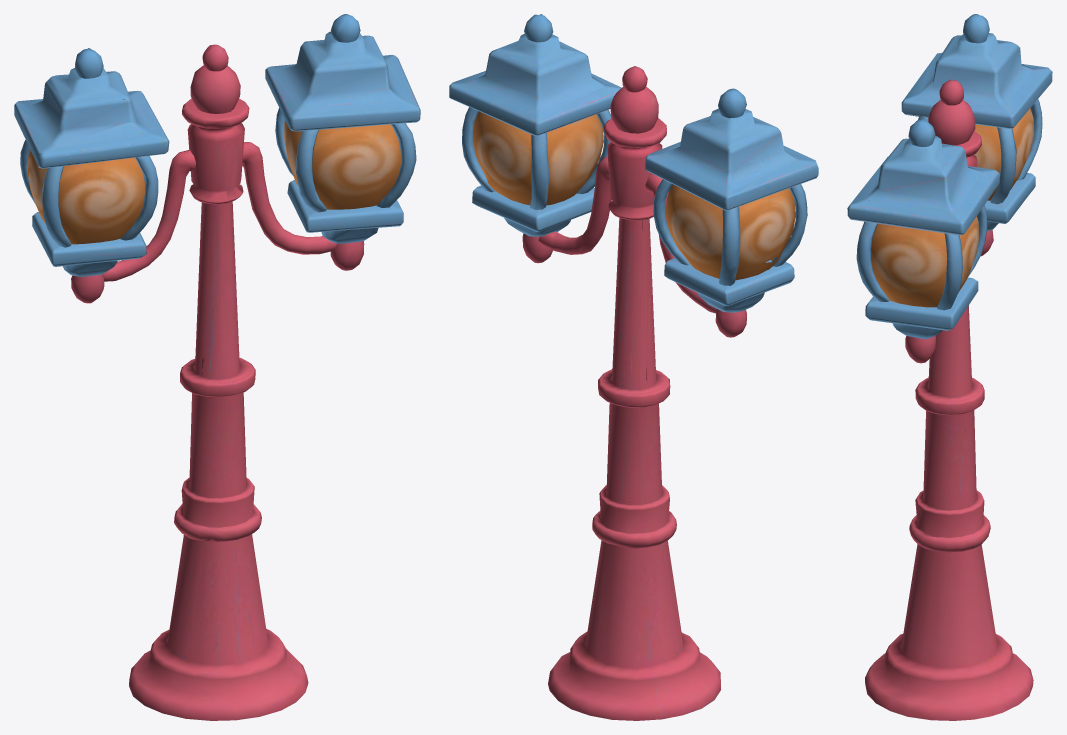
File: park-lamp.glb
The picture shows the model from 3 angles, left to right: view 1: azimuth 30°, elevation 25°; view 2: azimuth 150°, elevation 25°; view 3: azimuth 270°, elevation 25°; orthographic projection. The views are drawn at different scales.
Parts seen in each view (by area): view 1: geometry_0; view 2: geometry_0; view 3: geometry_0.
Boxes of the visible parts, bbox=[...] form: geometry_0: bbox=[14, 14, 420, 720]; geometry_0: bbox=[449, 14, 818, 720]; geometry_0: bbox=[847, 14, 1052, 720].
Bounding box in the file's own units: 0.595 × 0.9991 × 0.301.
1 material, 1 textured.
